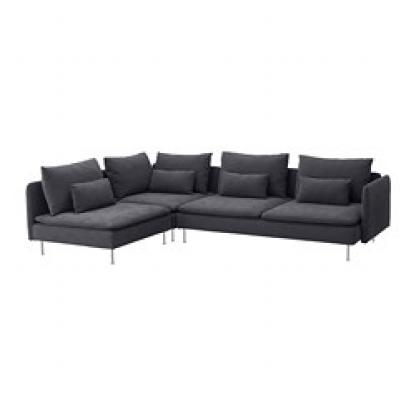Sofa: (15, 121, 396, 288)
